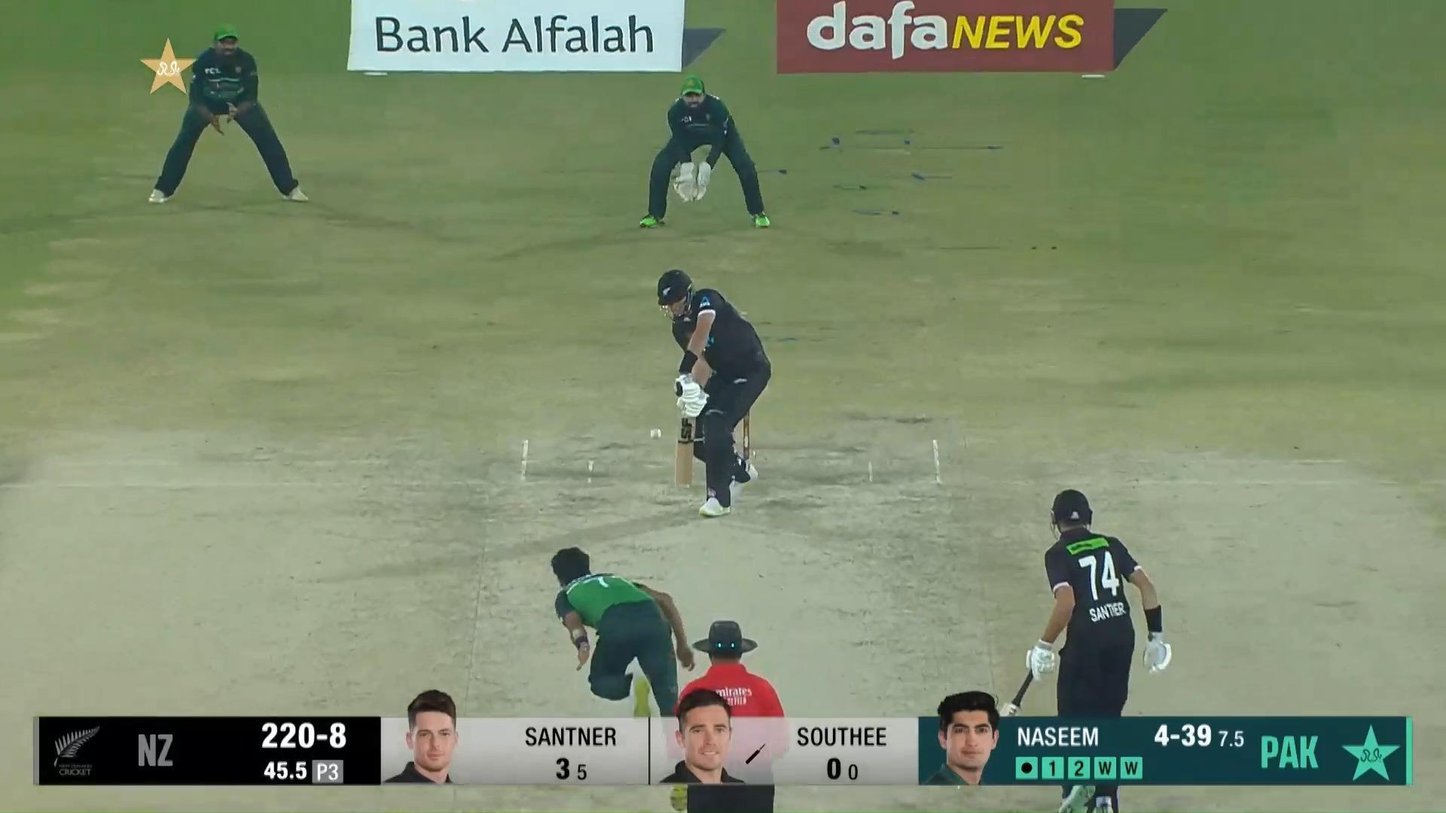BM 1: (656, 269, 772, 517)
BO: (549, 542, 704, 813)
